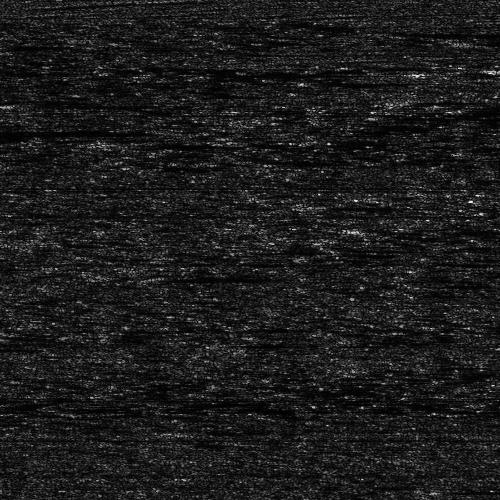rock: (0, 98, 46, 107), (146, 274, 187, 281), (379, 98, 432, 103), (287, 203, 340, 208), (450, 38, 491, 43), (478, 64, 500, 71)
shadow: (5, 98, 114, 107), (0, 127, 121, 134), (167, 274, 277, 281), (314, 203, 395, 208), (0, 44, 102, 47), (406, 98, 449, 103), (471, 38, 500, 43)
